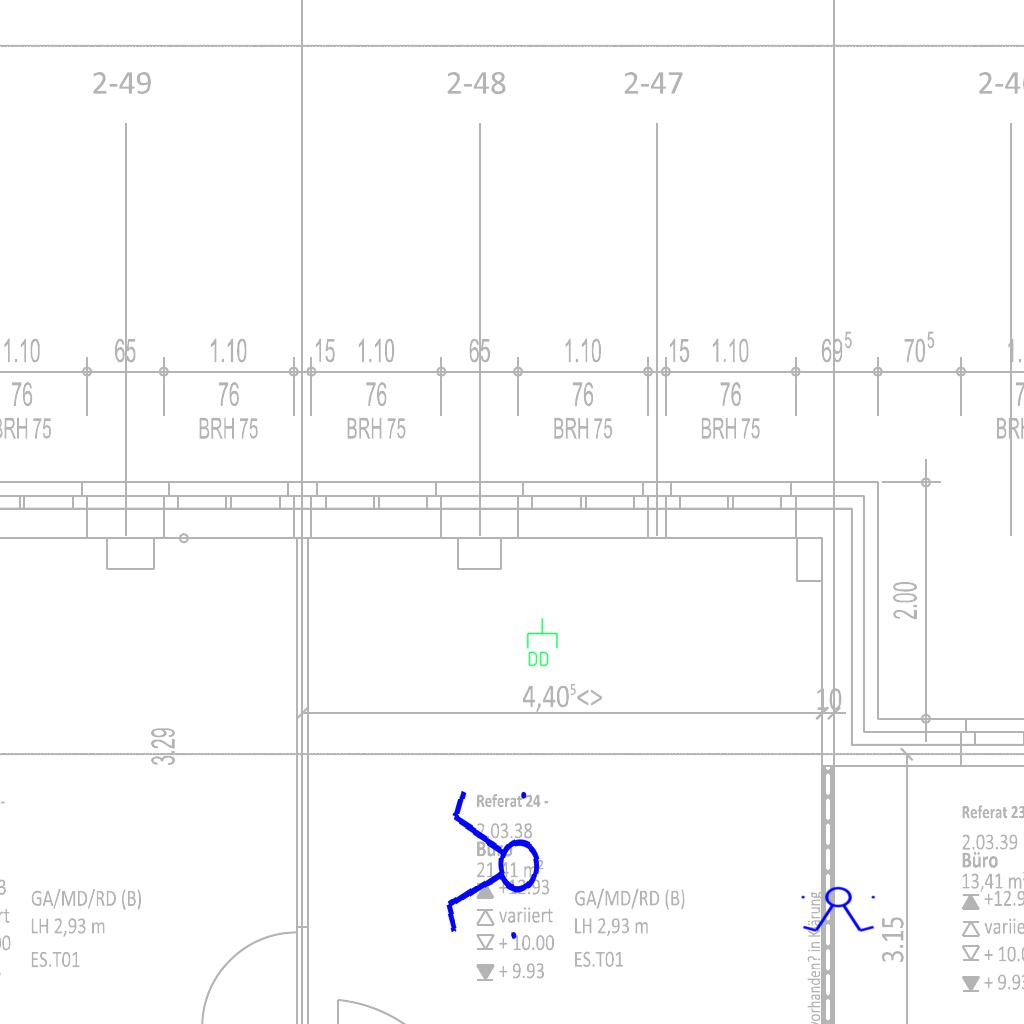Datenanschluss_zweifach: (525, 617, 559, 668)
Serienschalter: (439, 777, 547, 953), (797, 886, 881, 934)
